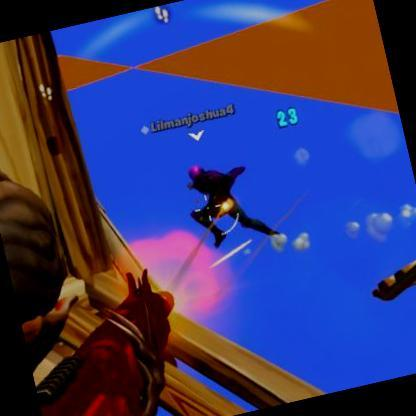person: (183, 146, 286, 262)
